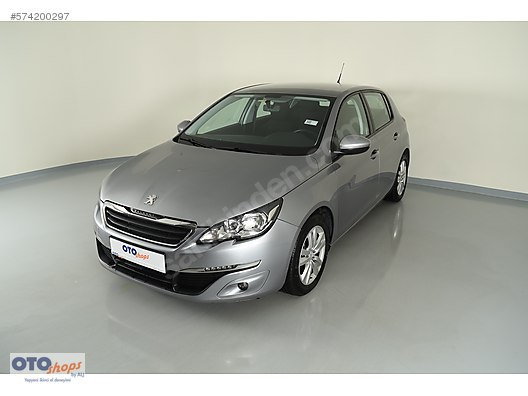peugeot: (84, 74, 413, 318)
